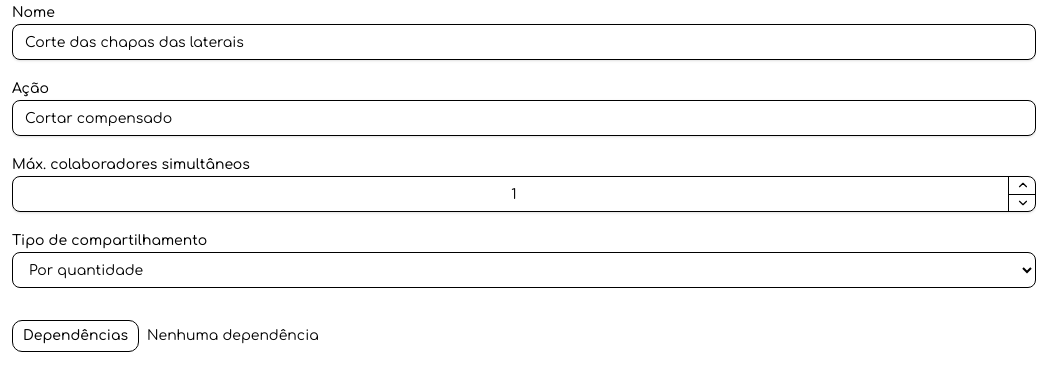
Test: SubTaskPresetForm › does not show action validation errors before submit
The width and height of the screenshot is (1048, 377).
Click the dropdown labelled "Ação".
click(524, 118)  # box [12,100,1036,136]
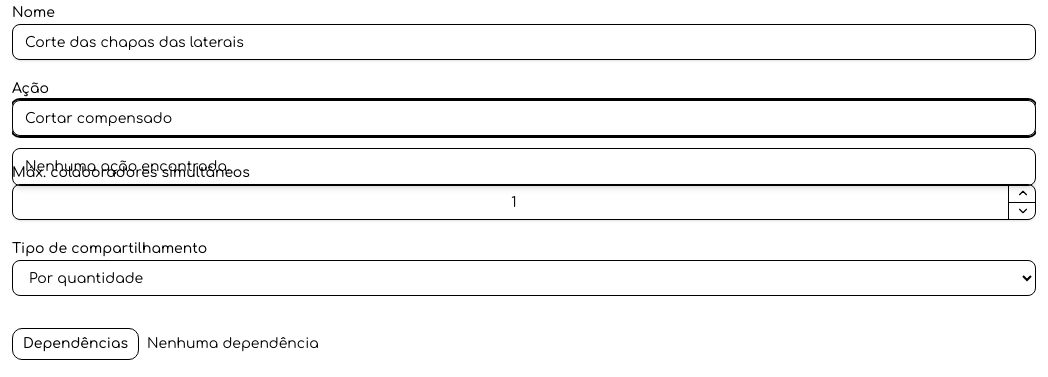
Press Backspace
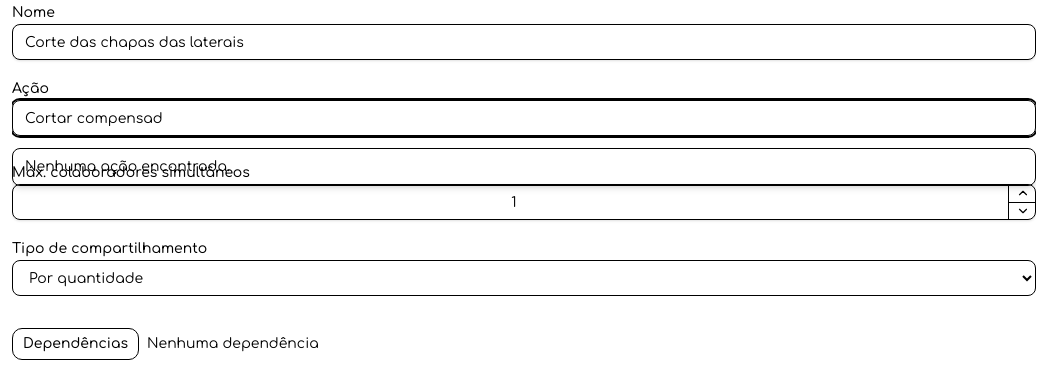
Expected: the dropdown labelled "Ação" holds "Cortar compensad", [12,100,1036,136]
